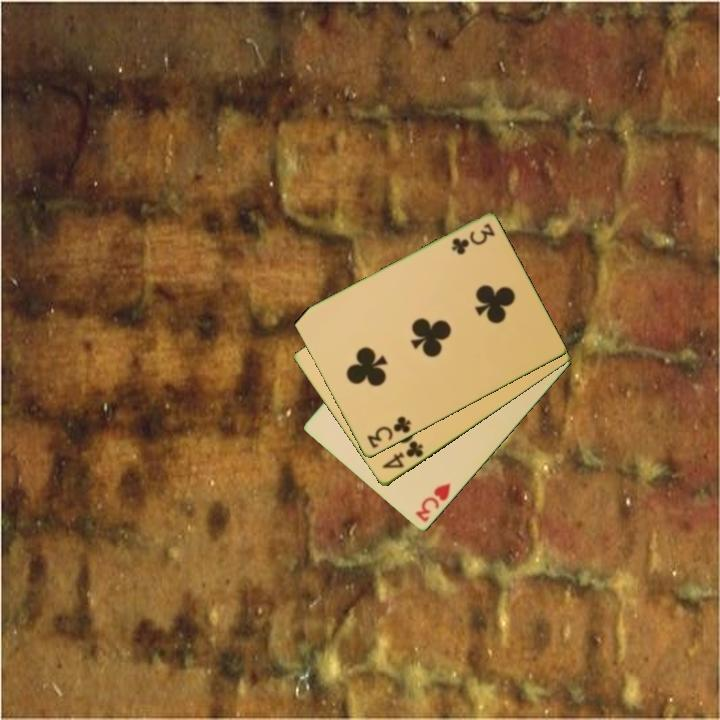3c: (363, 413, 414, 452), (448, 220, 497, 257)
3h: (411, 479, 454, 526)
4c: (378, 437, 426, 472)
